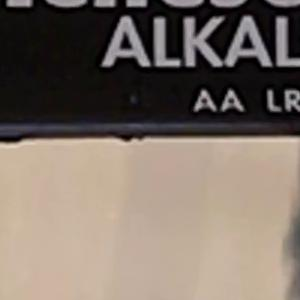keyword: (93, 8, 219, 76)
